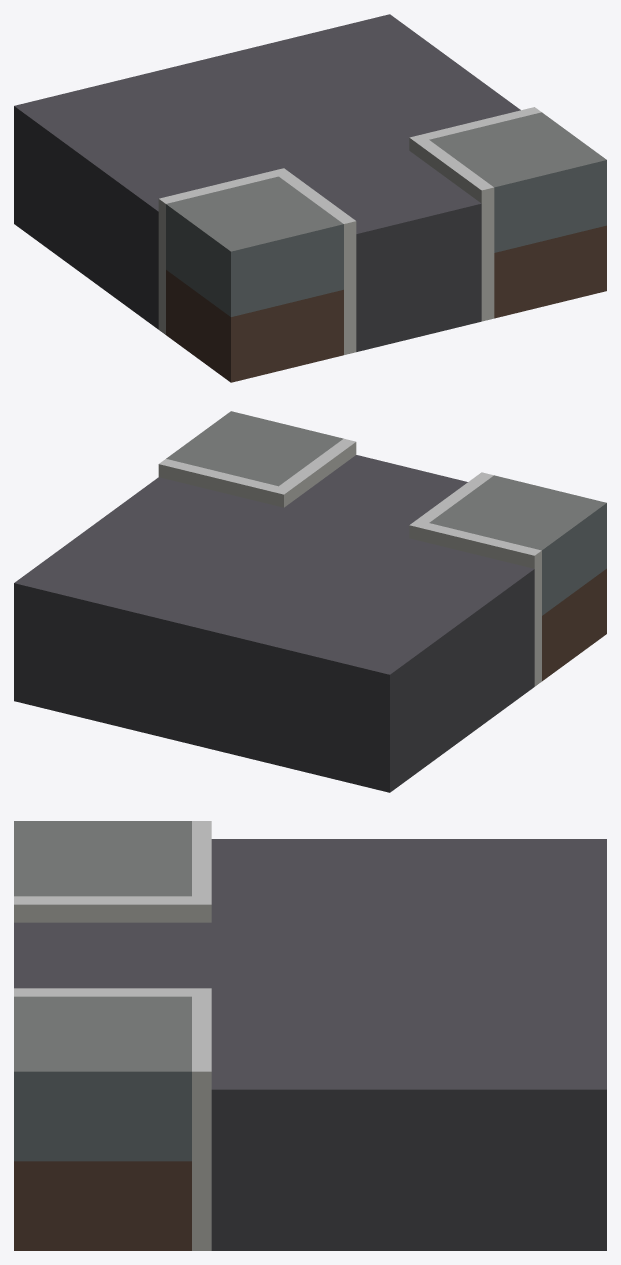
File: TB_CITY_Road_J.FBX
3 renders of one model, top to bottom at view 1: azimuth 30°, elevation 25°; view 2: azimuth 150°, elevation 25°; view 3: azimuth 270°, elevation 25°, orthographic. The views are drawn at different scales.
Parts seen in each view (by area): view 1: TB_CITY_Road_J; view 2: TB_CITY_Road_J; view 3: TB_CITY_Road_J.
Boxes of the visible parts, x1=… form: TB_CITY_Road_J: x1=14, y1=14, x2=606, y2=382; TB_CITY_Road_J: x1=14, y1=411, x2=606, y2=792; TB_CITY_Road_J: x1=14, y1=821, x2=606, y2=1250.
Bounding box in the file's own units: 30 × 10 × 30.
